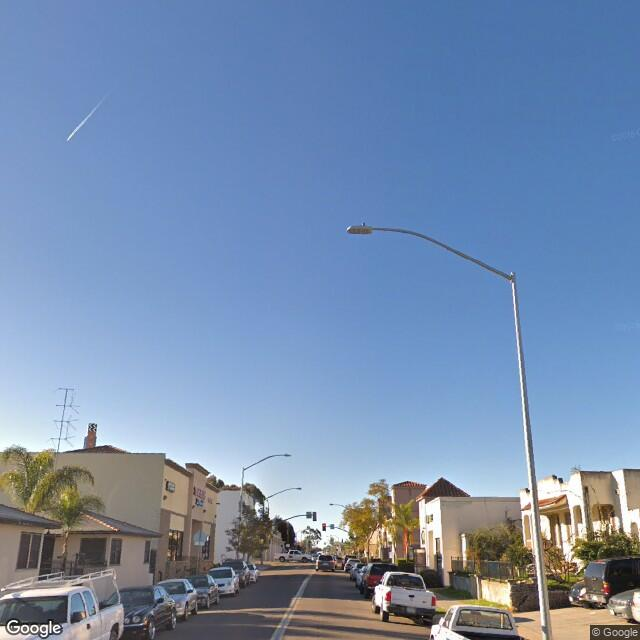light: (344, 220, 374, 236)
window: (82, 531, 112, 570), (166, 529, 185, 560)
